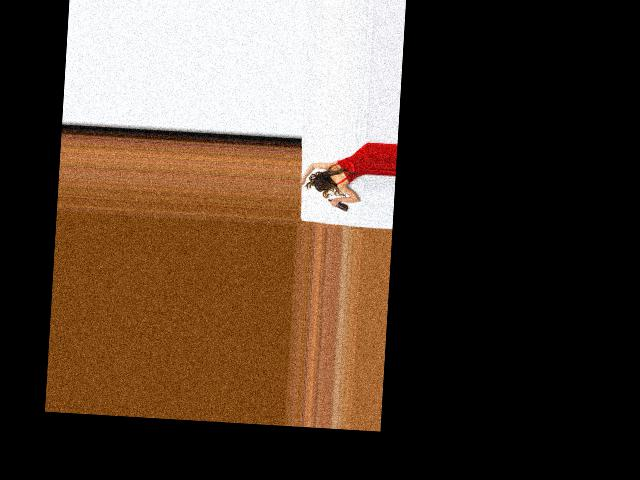beer: (327, 199, 349, 212)
